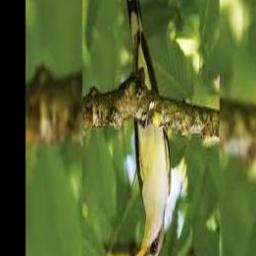Cuckoo: (124, 0, 171, 256)
